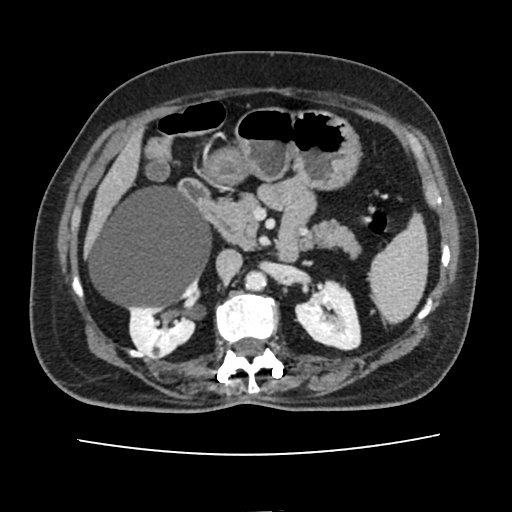aorta: (244, 268, 270, 293)
